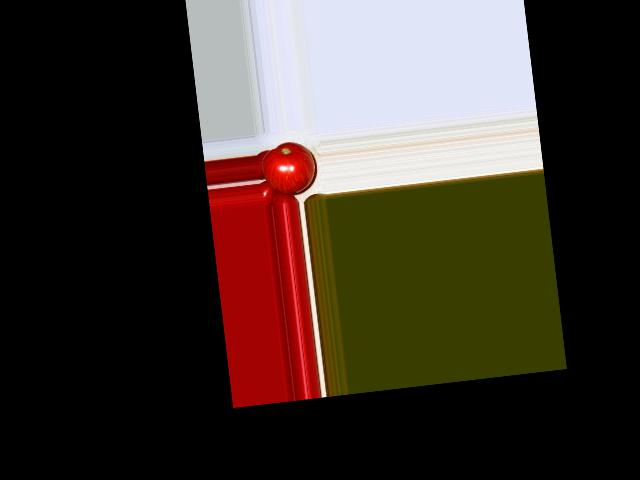tomato: (259, 139, 318, 197)
